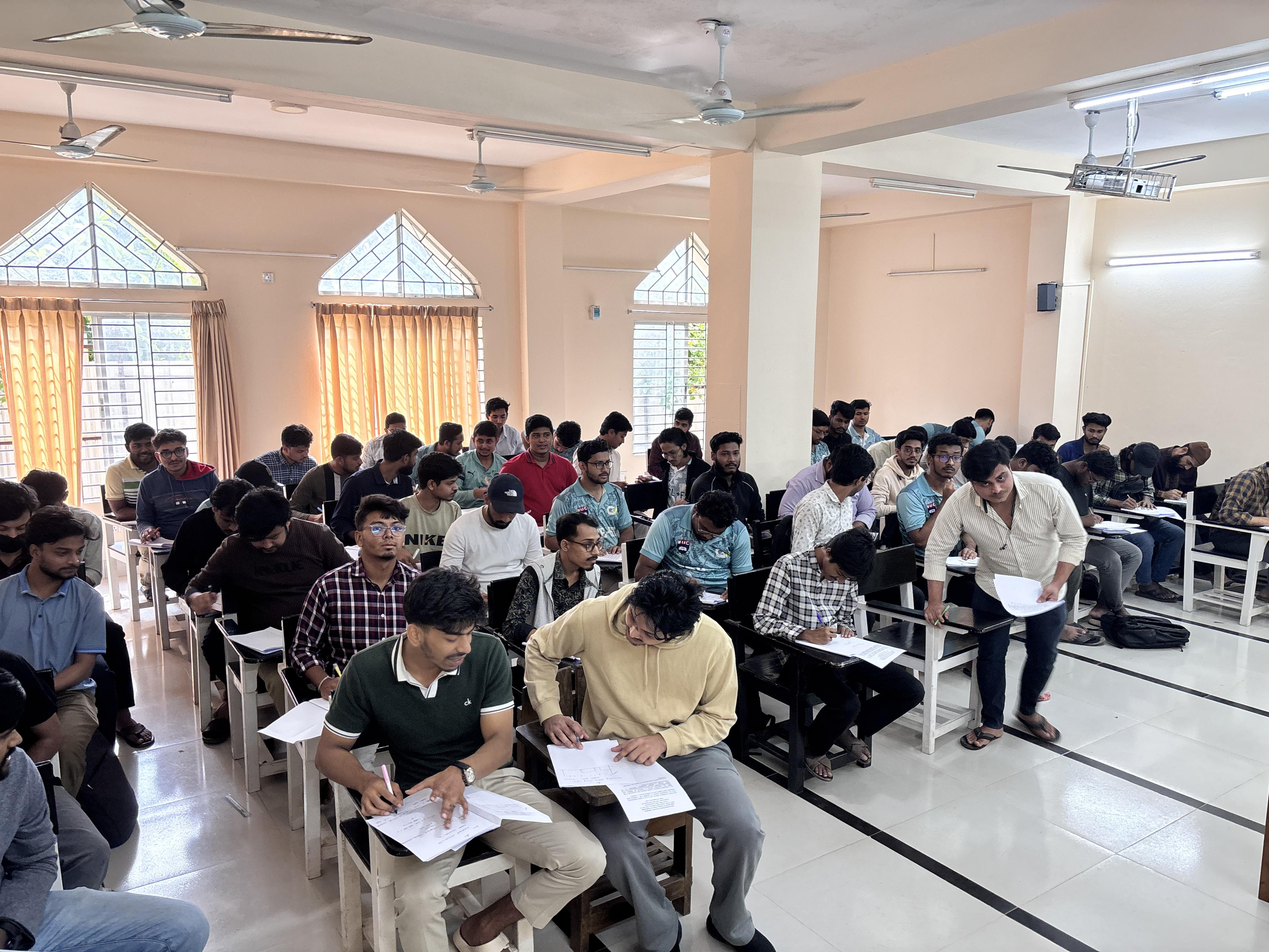copying: (321, 571, 538, 886), (515, 562, 757, 833), (6, 504, 131, 683), (787, 438, 886, 554), (411, 441, 477, 551), (537, 507, 614, 600), (362, 427, 436, 508), (264, 409, 330, 493), (312, 430, 376, 504), (431, 406, 469, 479)
no_cheating: (927, 439, 1095, 704), (305, 488, 436, 666), (214, 491, 323, 650), (642, 488, 760, 589), (456, 466, 538, 601), (143, 423, 220, 534), (1141, 430, 1215, 510), (109, 412, 170, 508), (1056, 447, 1130, 518), (565, 431, 620, 524), (513, 408, 567, 502), (463, 411, 515, 496), (1062, 400, 1125, 468), (881, 420, 932, 504), (648, 422, 703, 494), (705, 423, 754, 496), (478, 384, 526, 450), (834, 387, 892, 441), (593, 401, 653, 453), (667, 401, 700, 436)
side_talking: (0, 642, 69, 929), (958, 398, 1010, 438)
